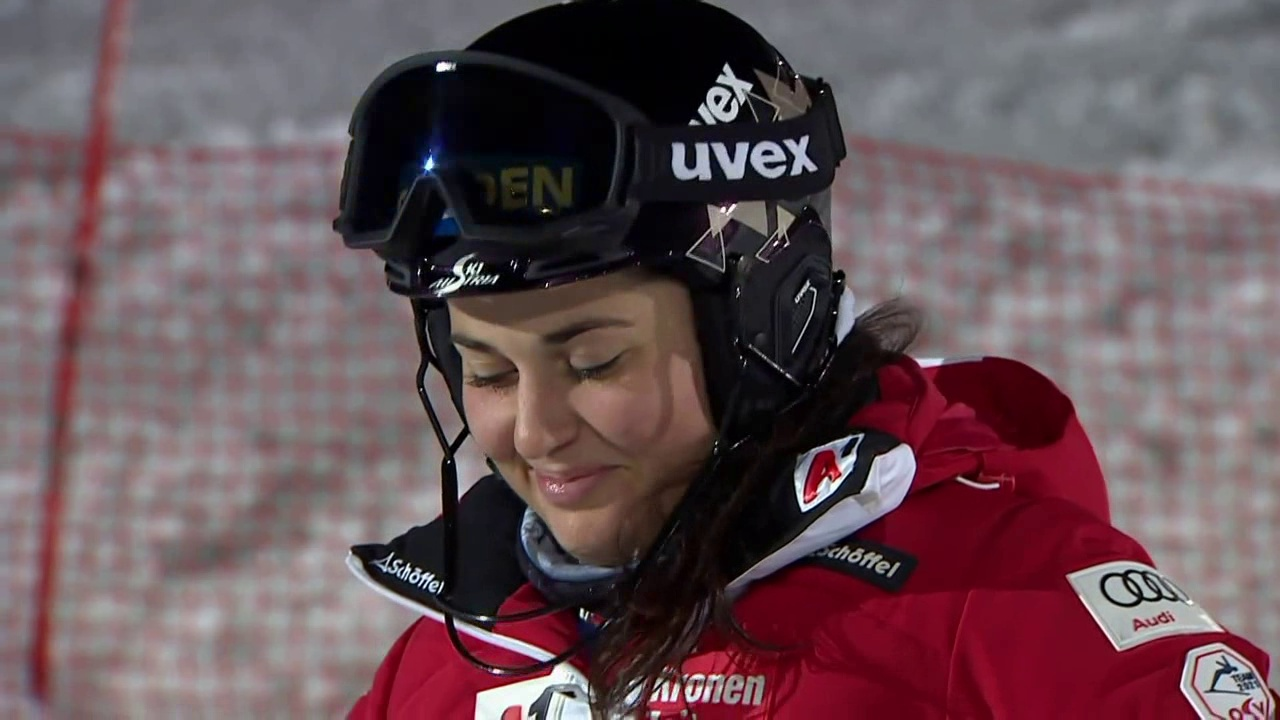a1: (797, 433, 869, 507)
